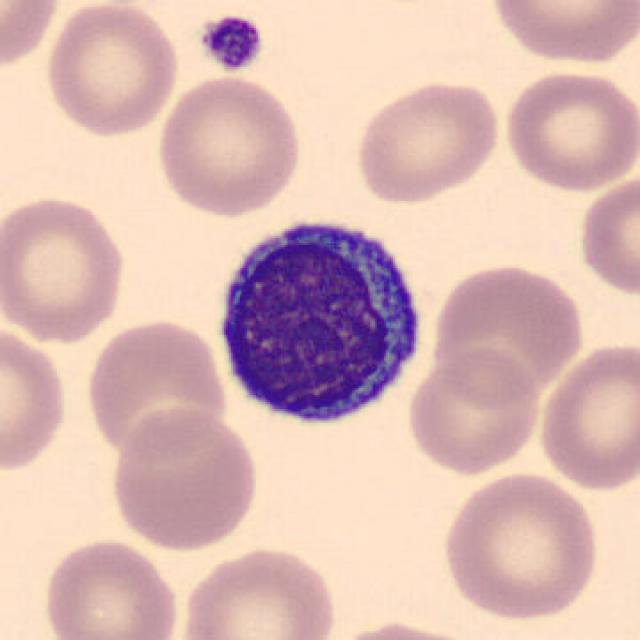Lymphocyte: (208, 207, 430, 436)
Platelets: (196, 12, 266, 76)
RBC: (438, 469, 604, 622), (105, 404, 263, 554), (426, 259, 586, 406), (153, 72, 306, 219), (82, 314, 231, 462), (0, 190, 132, 346), (350, 76, 503, 206), (41, 0, 183, 139), (404, 346, 546, 478), (500, 67, 638, 194), (534, 336, 638, 494), (176, 543, 341, 640), (39, 534, 183, 640), (0, 317, 71, 476), (487, 0, 638, 67), (574, 171, 640, 300), (0, 0, 64, 74), (322, 617, 492, 640)
